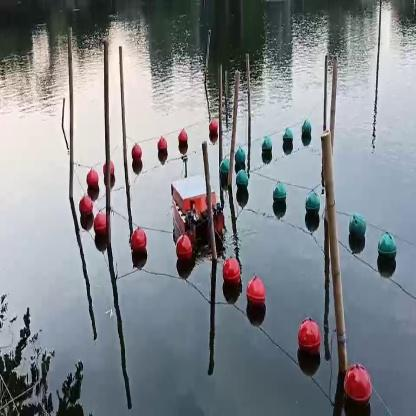green_buoy: (376, 230, 398, 274), (303, 190, 321, 224), (346, 210, 364, 244), (270, 181, 288, 210), (280, 125, 295, 152), (236, 168, 248, 198), (220, 156, 228, 187), (302, 115, 310, 144), (236, 146, 246, 168), (262, 140, 271, 160)
red_buoy: (342, 361, 372, 414), (298, 317, 320, 360), (221, 254, 242, 297), (246, 273, 266, 313), (175, 230, 193, 266), (132, 225, 150, 257), (92, 211, 106, 239), (80, 194, 92, 225), (130, 137, 142, 166), (88, 168, 99, 191), (156, 137, 168, 158), (175, 128, 187, 146), (209, 119, 216, 136)
